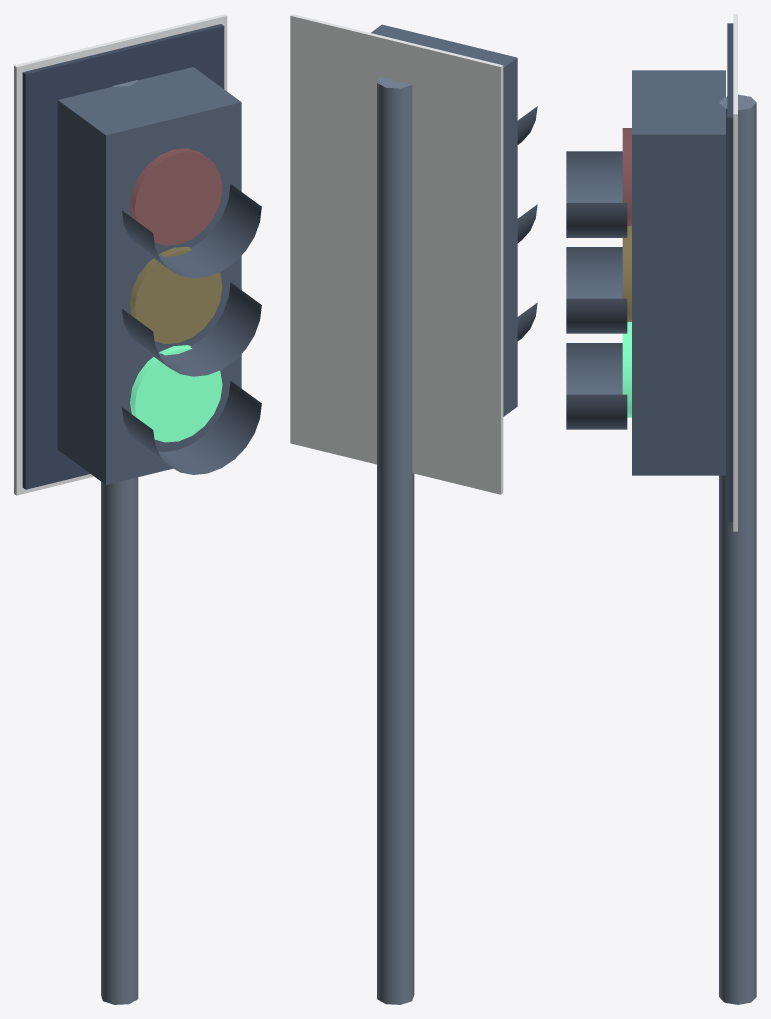
File: light_0.glb
3 views of the same model, side by side, from view 1: azimuth 30°, elevation 25°; view 2: azimuth 150°, elevation 25°; view 3: azimuth 270°, elevation 25° (orthographic). The views are drawn at different scales.
Visible parts, largest first — view 1: c1e293b (×2), c111827, c334155, lamp_red:c351719, cf1f5f9, lamp_green:c36ff88, lamp_yellow:c352d14; view 2: cf1f5f9, c334155, c1e293b (×2); view 3: c1e293b (×2), c334155, c111827, cf1f5f9, lamp_red:c351719, lamp_green:c36ff88, lamp_yellow:c352d14.
Part boxes in pixels (x1,y1,x2,y2): c1e293b (×2): (57, 67, 261, 484); c111827: (22, 24, 224, 489); c334155: (101, 80, 138, 1004); lamp_red:c351719: (130, 148, 222, 245); cf1f5f9: (14, 14, 227, 495); lamp_green:c36ff88: (130, 345, 222, 442); lamp_yellow:c352d14: (130, 246, 222, 343); cf1f5f9: (290, 14, 503, 494); c334155: (377, 76, 414, 1004); c1e293b (×2): (371, 24, 537, 416); c1e293b (×2): (566, 70, 725, 475); c334155: (719, 94, 756, 1004); c111827: (727, 23, 733, 522); cf1f5f9: (733, 14, 737, 531); lamp_red:c351719: (622, 128, 631, 225); lamp_green:c36ff88: (622, 322, 631, 417); lamp_yellow:c352d14: (622, 226, 631, 321).
Size of the model in its own units: 1.01 by 4.38 by 0.81.
